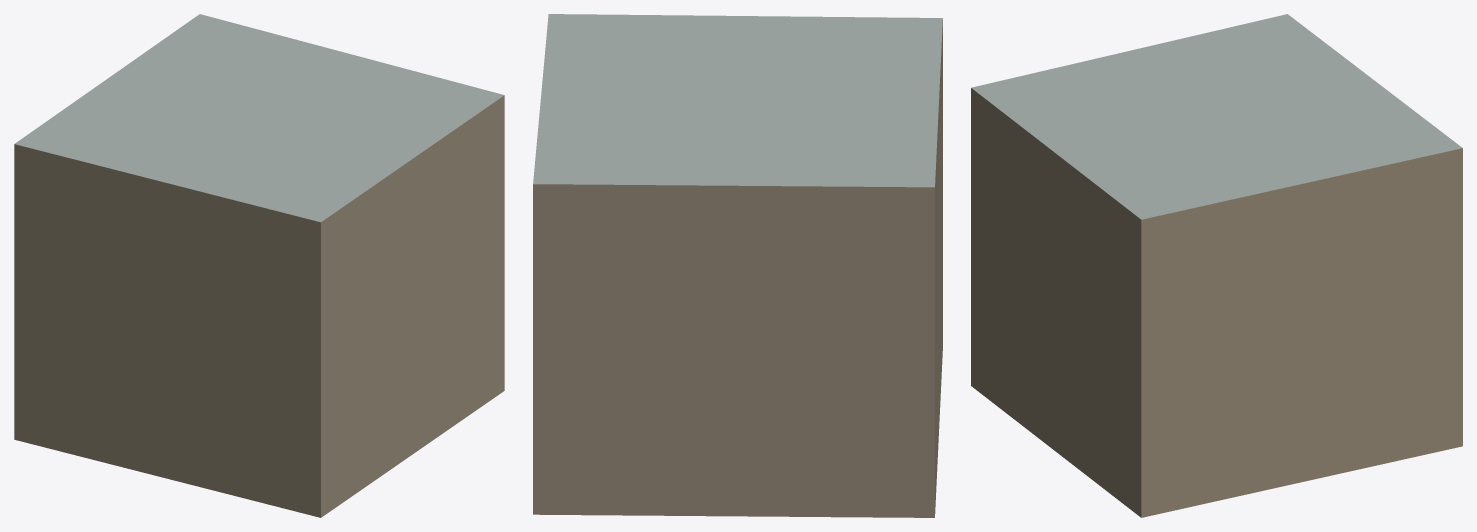
File: nyc-1091074-0.glb
3 renders of one model, left to right at view 1: azimuth 30°, elevation 25°; view 2: azimuth 150°, elevation 25°; view 3: azimuth 270°, elevation 25°, orthographic. The views are drawn at different scales.
Parts seen in each view (by area): view 1: nyc-1091074-0; view 2: nyc-1091074-0; view 3: nyc-1091074-0.
Part boxes in pixels (x1,y1,x2,y2): nyc-1091074-0: (14,14,504,517); nyc-1091074-0: (533,14,942,517); nyc-1091074-0: (971,14,1462,517).
Size of the model in its own units: 5.86 by 3.96 by 5.92.
